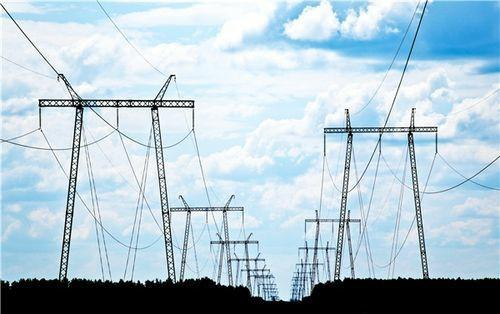power_tower: (38, 71, 200, 274), (321, 107, 440, 281), (170, 189, 249, 287), (303, 209, 368, 278)
